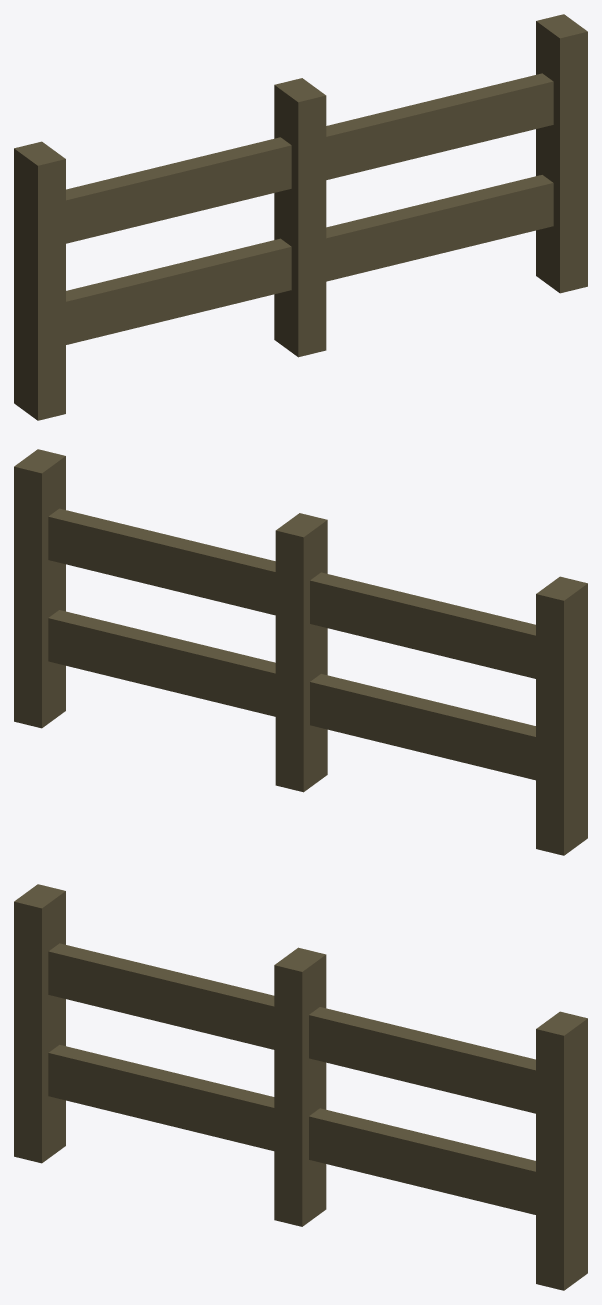
File: KücükCit.fbx
3 views of the same model, one above another, from view 1: azimuth 30°, elevation 25°; view 2: azimuth 150°, elevation 25°; view 3: azimuth 330°, elevation 25° (orthographic).
Parts seen in each view (by area): view 1: kücükcit; view 2: kücükcit; view 3: kücükcit.
Part boxes in pixels (x1,y1,x2,y2): kücükcit: (14, 14, 587, 420); kücükcit: (14, 449, 587, 855); kücükcit: (14, 884, 587, 1290).
Bounding box in the file's own units: 5.25 × 2.33 × 0.3956.
